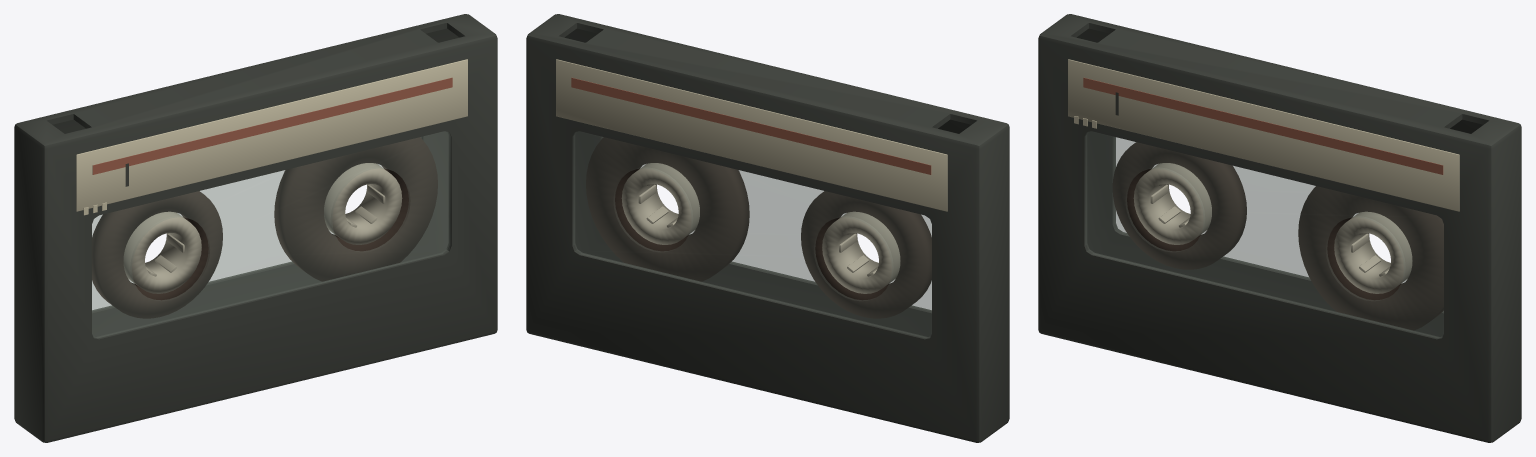
The model's file is A02_Source01.fbx.
3 renders of one model, left to right at view 1: azimuth 30°, elevation 25°; view 2: azimuth 150°, elevation 25°; view 3: azimuth 330°, elevation 25°, orthographic.
Parts seen in each view (by area): view 1: A02_Source01_Shell, A02_Source01_Window_Front, A02_Source01_Label.001, A02_Source01_Winding_R, A02_Source01_Winding_L, A02_Source01_Window_Back, A02_Source01_Hub_L, A02_Source01_Hub_R, A02_Source01_Accent.001; view 2: A02_Source01_Shell, A02_Source01_Window_Back, A02_Source01_Label, A02_Source01_Winding_R, A02_Source01_Winding_L, A02_Source01_Window_Front, A02_Source01_Hub_L, A02_Source01_Hub_R, A02_Source01_Accent; view 3: A02_Source01_Shell, A02_Source01_Window_Front, A02_Source01_Label.001, A02_Source01_Winding_R, A02_Source01_Winding_L, A02_Source01_Window_Back, A02_Source01_Hub_R, A02_Source01_Hub_L, A02_Source01_Accent.001.
Part boxes in pixels (x1,y1,x2,y2): A02_Source01_Shell: (14,14,497,442); A02_Source01_Window_Front: (92,131,450,338); A02_Source01_Label.001: (76,59,467,211); A02_Source01_Winding_R: (274,137,437,281); A02_Source01_Winding_L: (92,191,222,318); A02_Source01_Window_Back: (92,165,381,310); A02_Source01_Hub_L: (123,211,201,293); A02_Source01_Hub_R: (324,163,402,244); A02_Source01_Accent.001: (92,77,452,174); A02_Source01_Shell: (526,14,1009,442); A02_Source01_Window_Back: (573,131,931,338); A02_Source01_Label: (556,59,947,211); A02_Source01_Winding_R: (586,137,749,281); A02_Source01_Winding_L: (801,191,931,318); A02_Source01_Window_Front: (642,165,931,310); A02_Source01_Hub_L: (822,211,900,293); A02_Source01_Hub_R: (621,163,699,244); A02_Source01_Accent: (571,77,931,174); A02_Source01_Shell: (1038,14,1521,442); A02_Source01_Window_Front: (1085,131,1443,338); A02_Source01_Label.001: (1068,59,1459,211); A02_Source01_Winding_R: (1298,186,1443,330); A02_Source01_Winding_L: (1112,142,1246,269); A02_Source01_Window_Back: (1115,137,1405,282); A02_Source01_Hub_R: (1334,211,1412,293); A02_Source01_Hub_L: (1133,163,1211,244); A02_Source01_Accent.001: (1083,77,1443,174).
Size of the model in its own units: 10 by 6.3 by 1.29.
